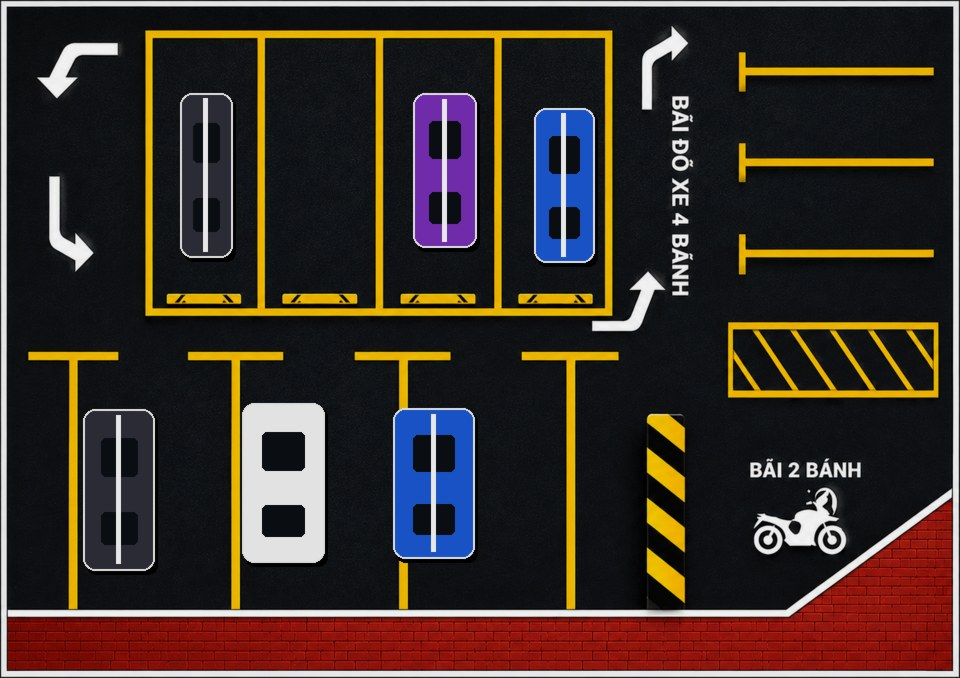empty: (524, 351, 672, 598), (267, 35, 386, 309)
occupied: (35, 351, 199, 598), (360, 351, 518, 598), (201, 351, 357, 598), (148, 35, 267, 309), (386, 35, 505, 309), (505, 35, 624, 309)
